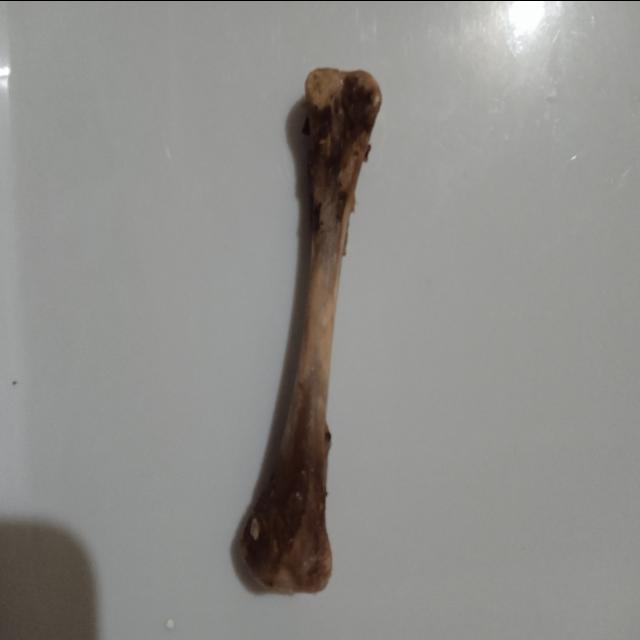bone: (229, 59, 388, 598)
